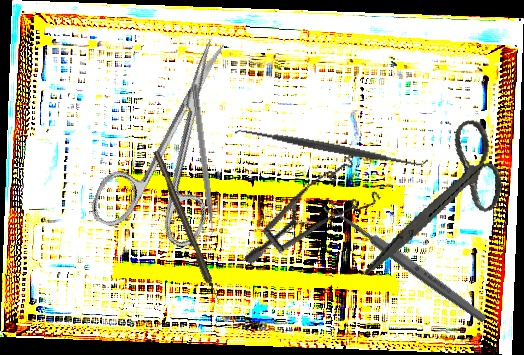Chopper: (182, 84, 218, 245)
Hook Surgical: (152, 149, 222, 306)
Iris Scissors: (86, 21, 272, 260), (364, 104, 514, 300)
Spatula Surgical: (233, 118, 430, 177)
Speculum: (243, 136, 391, 303)
Surgical Spoon: (322, 199, 489, 325)
